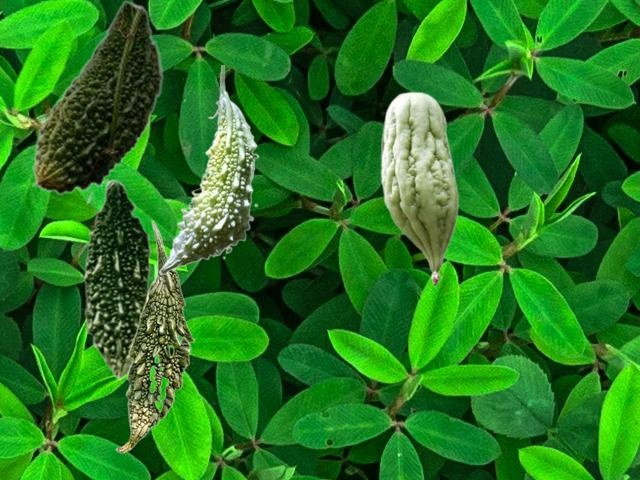ampalaya: (32, 0, 163, 194), (159, 65, 258, 274), (115, 219, 194, 452), (380, 91, 458, 285), (83, 177, 155, 380)
